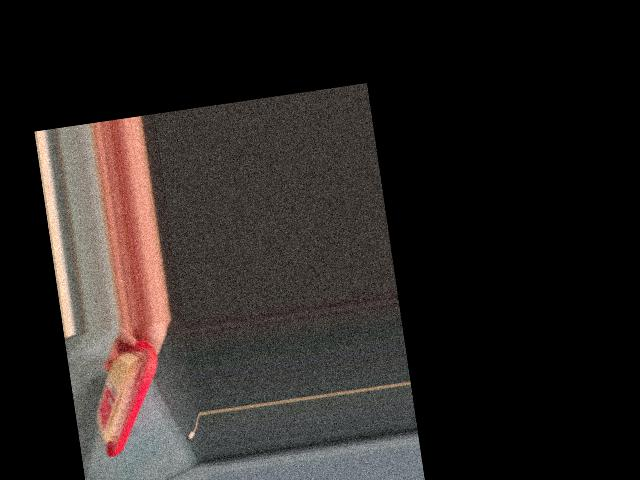cheese: (82, 333, 174, 459)
